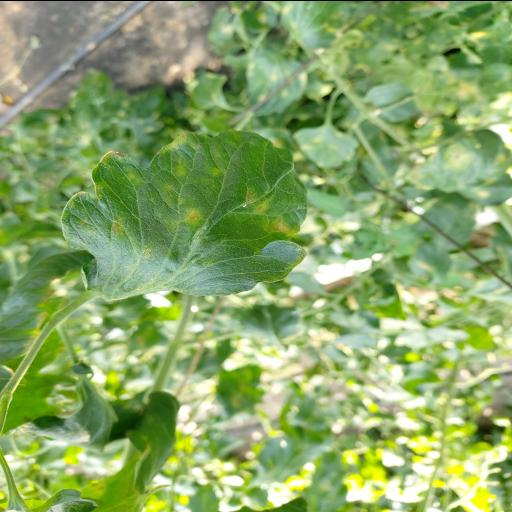Leaf Mold: (60, 130, 307, 300)
